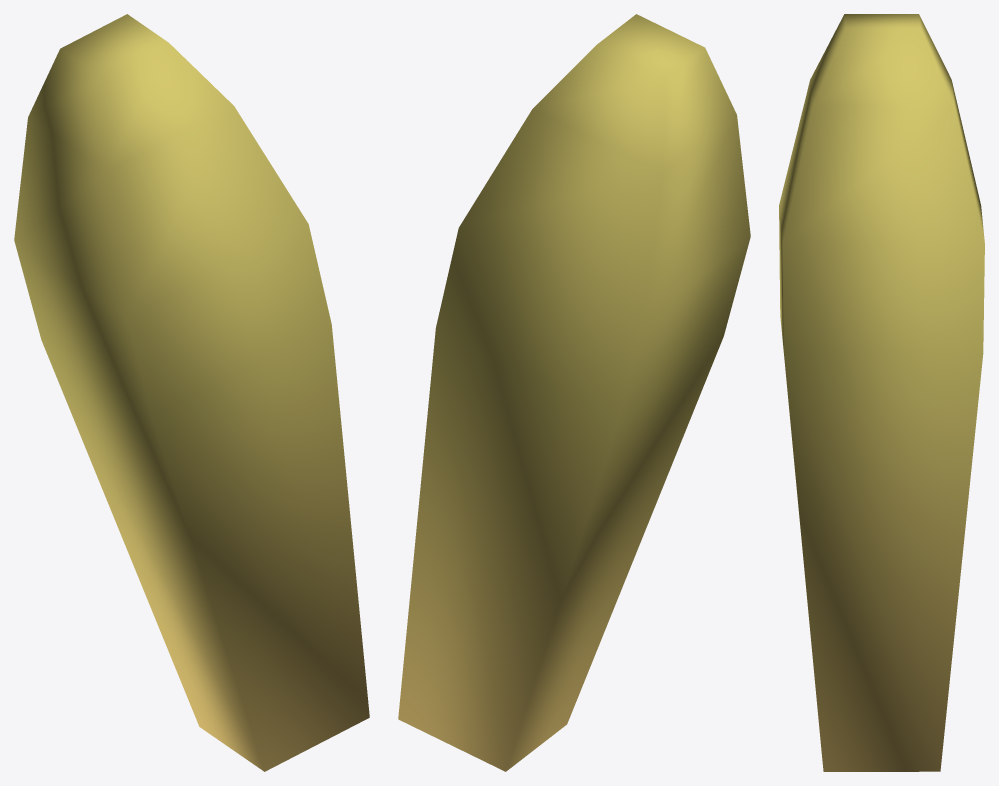
The model's file is mdl_env_1_forest_grass_a02_v01.fbx.
3 renders of one model, left to right at view 1: azimuth 30°, elevation 25°; view 2: azimuth 150°, elevation 25°; view 3: azimuth 270°, elevation 25°, orthographic. The views are drawn at different scales.
Parts seen in each view (by area): view 1: mdl_env_1_forest_grass_a02_v01; view 2: mdl_env_1_forest_grass_a02_v01; view 3: mdl_env_1_forest_grass_a02_v01.
Boxes of the visible parts, x1=… form: mdl_env_1_forest_grass_a02_v01: x1=14, y1=14, x2=369, y2=771; mdl_env_1_forest_grass_a02_v01: x1=398, y1=14, x2=750, y2=771; mdl_env_1_forest_grass_a02_v01: x1=779, y1=14, x2=984, y2=771.
Bounding box in the file's own units: 0.2704 × 0.7021 × 0.1915.
